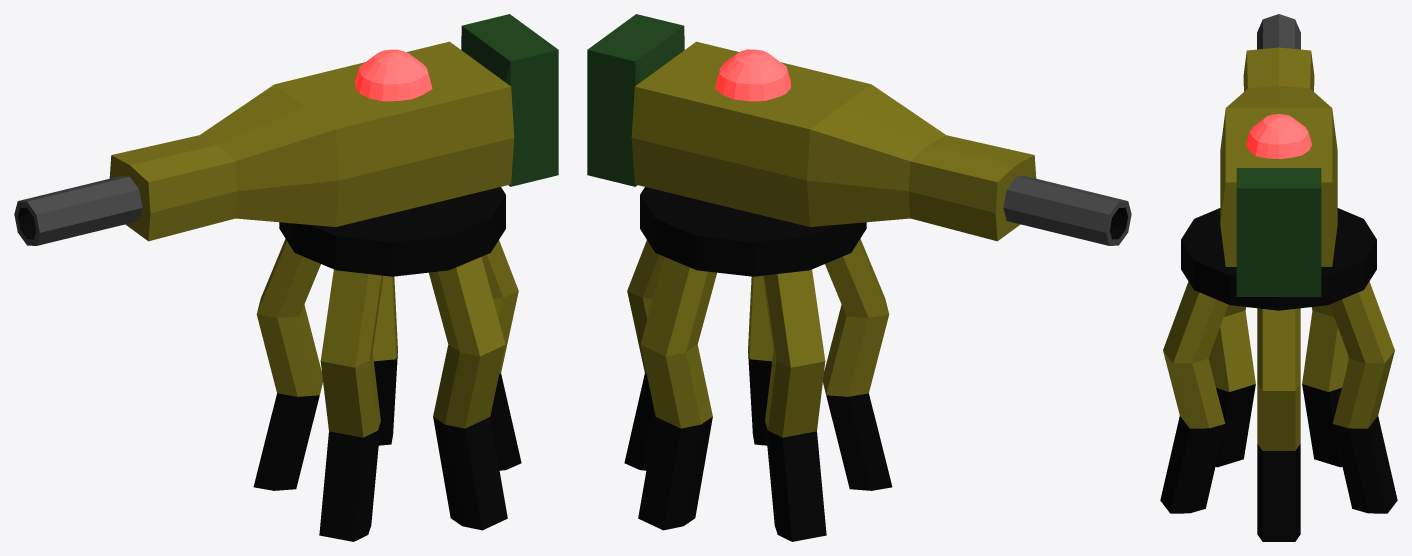
The model's file is Turret.glb.
The picture shows the model from 3 angles, left to right: view 1: azimuth 30°, elevation 25°; view 2: azimuth 150°, elevation 25°; view 3: azimuth 270°, elevation 25°; orthographic projection. The views are drawn at different scales.
Parts seen in each view (by area): view 1: Head, Legs, Disk; view 2: Head, Legs, Disk; view 3: Legs, Head, Disk.
Part boxes in pixels (x1,y1,x2,y2): Head: (14, 14, 558, 245); Legs: (253, 239, 521, 541); Disk: (279, 187, 505, 276); Head: (587, 14, 1131, 245); Legs: (624, 239, 892, 541); Disk: (640, 187, 866, 276); Legs: (1160, 281, 1397, 541); Head: (1220, 14, 1337, 296); Disk: (1181, 208, 1376, 310).
Size of what is drawn, in the model's own units: 1.4 by 1.14 by 0.6536.
